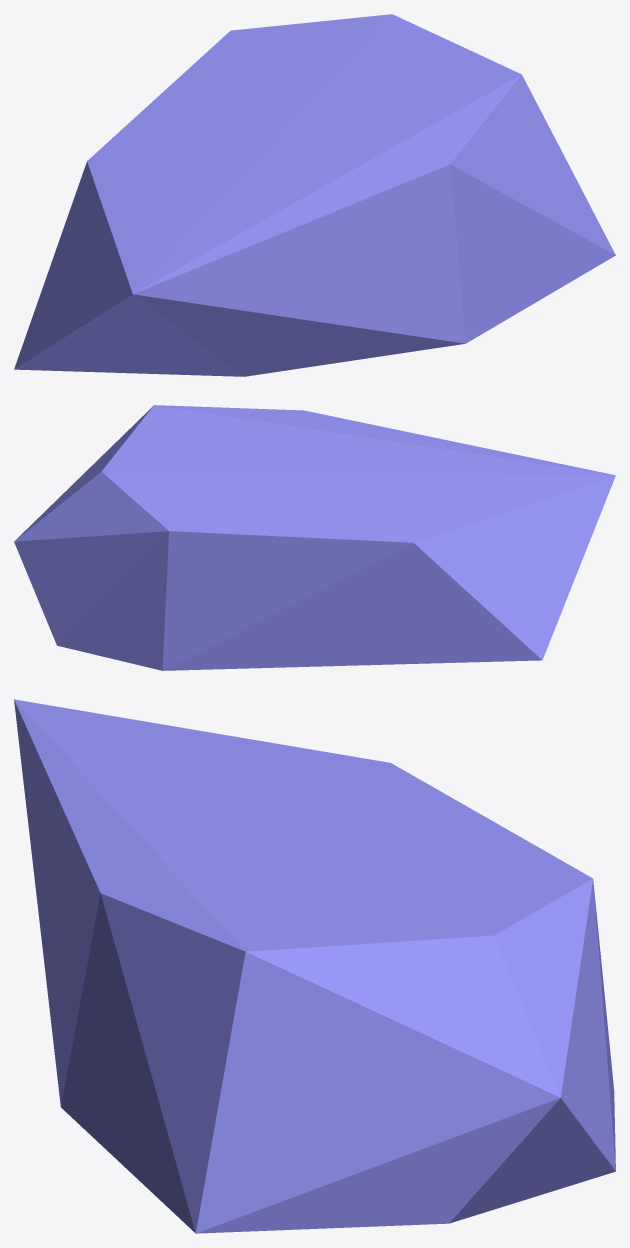
The model's file is Rock_05_Collider_01.FBX.
3 views of the same model, one above another, from view 1: azimuth 30°, elevation 25°; view 2: azimuth 150°, elevation 25°; view 3: azimuth 270°, elevation 25° (orthographic). The views are drawn at different scales.
Visible parts, largest first — view 1: COLLIDER1; view 2: COLLIDER1; view 3: COLLIDER1.
Boxes of the visible parts, bbox=[...] form: COLLIDER1: bbox=[14, 14, 615, 376]; COLLIDER1: bbox=[14, 405, 615, 670]; COLLIDER1: bbox=[14, 699, 615, 1233].
Bounding box in the file's own units: 27.19 × 8.45 × 19.56.
